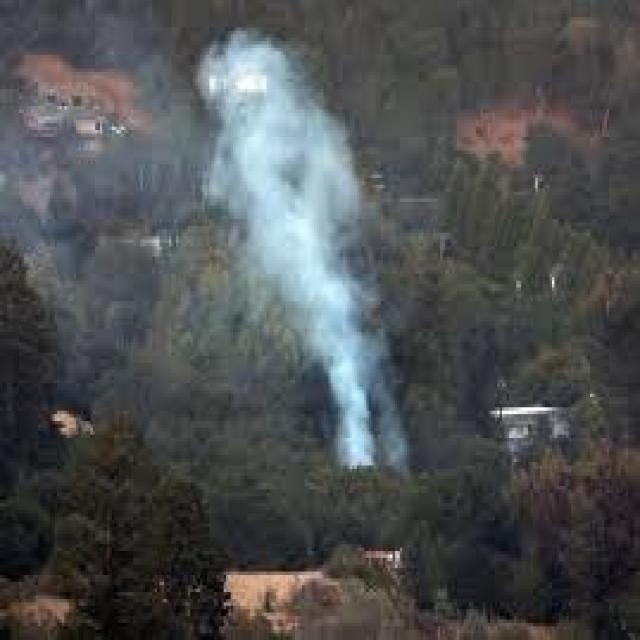Smoke: (192, 18, 428, 492)
